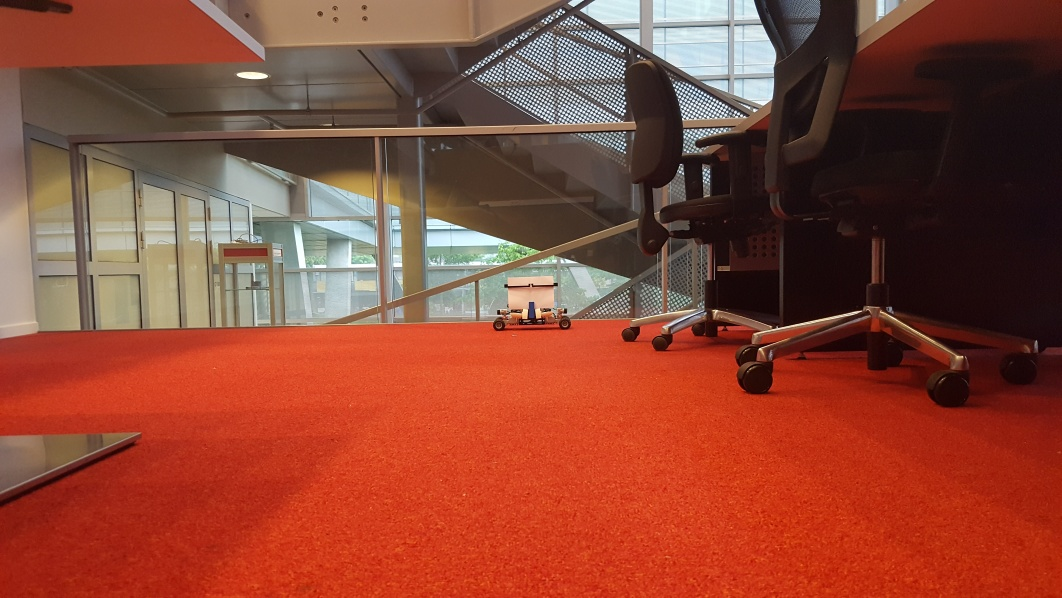car: (493, 275, 572, 332)
